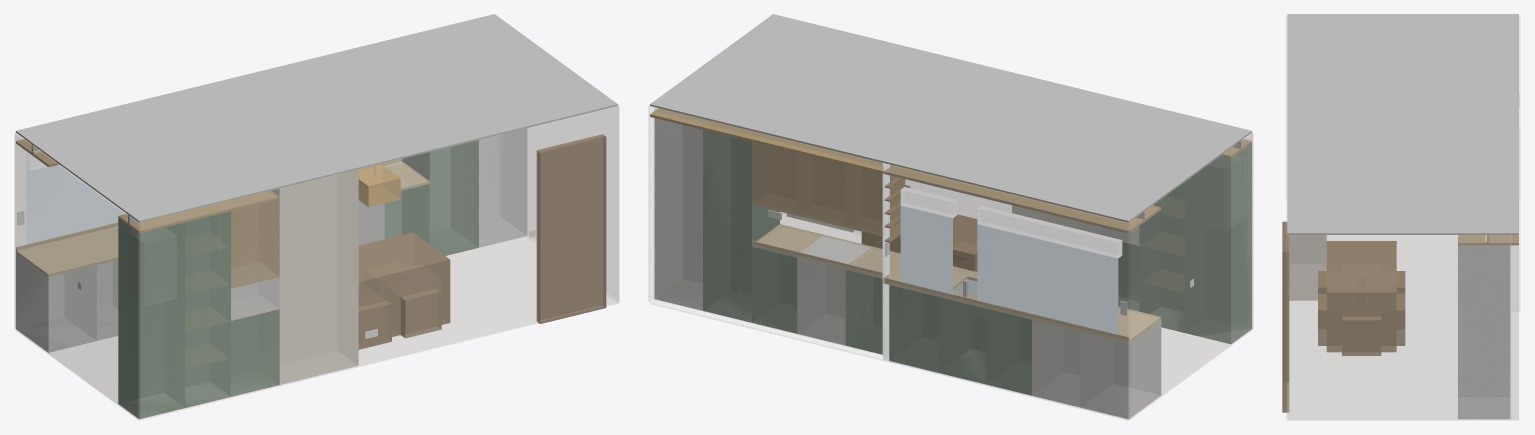
The model's file is cocina.obj.
The picture shows the model from 3 angles, left to right: view 1: azimuth 30°, elevation 25°; view 2: azimuth 150°, elevation 25°; view 3: azimuth 270°, elevation 25°; orthographic projection. The views are drawn at different scales.
Visible parts, largest first — view 1: Pared Sur, Techo, Pared Oeste, Columna azulejo, Caldera, Puerta, Suelo, Despensa Sur, Lavadora, Mesa comedor, Escobero, Frigorífico (+15 smaller); view 2: Techo, Pared Norte izq, Pared Norte der, Pared Oeste, Caldera, Ventana grande, Escobero, Frigorífico, Cajones, Lavadora, Cornisa Norte, Despensa Sur (+23 smaller); view 3: Techo, Pared Este, Suelo, Frigorífico, Mesa comedor, Columna azulejo, Silla 6, Puerta, Cornisa Norte, Pared Norte izq, Silla 4, Silla 2 (+2 smaller).
Boxes of the visible parts, box(x1,y1,x2,y2) form: Pared Sur: box(139, 106, 618, 419); Techo: box(16, 14, 617, 222); Pared Oeste: box(14, 133, 138, 419); Columna azulejo: box(271, 169, 358, 384); Caldera: box(118, 218, 185, 419); Puerta: box(536, 134, 606, 323); Suelo: box(16, 236, 617, 420); Despensa Sur: box(185, 211, 230, 407); Lavadora: box(16, 253, 96, 352); Mesa comedor: box(358, 232, 450, 336); Escobero: box(402, 140, 478, 255); Frigorífico: box(479, 128, 527, 247); Techo: box(650, 14, 1251, 222); Pared Norte izq: box(883, 163, 1128, 419); Pared Norte der: box(654, 107, 882, 355); Pared Oeste: box(1129, 133, 1253, 419); Caldera: box(1185, 144, 1251, 343); Ventana grande: box(977, 224, 1117, 334); Escobero: box(703, 130, 779, 322); Frigorífico: box(654, 118, 702, 310); Cajones: box(845, 270, 937, 372); Lavadora: box(1080, 320, 1161, 419); Cornisa Norte: box(650, 108, 1161, 233); Despensa Sur: box(1139, 182, 1184, 332); Techo: box(1287, 14, 1518, 234); Pared Este: box(1287, 235, 1518, 419); Suelo: box(1287, 235, 1518, 420); Frigorífico: box(1458, 245, 1510, 419); Mesa comedor: box(1326, 241, 1396, 352); Columna azulejo: box(1289, 235, 1326, 300); Silla 6: box(1342, 316, 1381, 355); Puerta: box(1282, 221, 1289, 412); Cornisa Norte: box(1458, 235, 1518, 245); Pared Norte izq: box(1519, 16, 1520, 311); Silla 4: box(1396, 293, 1405, 345); Silla 2: box(1318, 293, 1326, 345).
Bounding box in the file's own units: 5.98 × 2.37 × 2.73.
